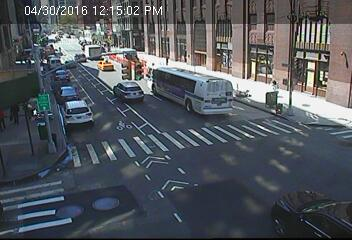neg: (14, 183, 47, 227), (213, 161, 242, 200), (50, 65, 75, 99), (277, 154, 302, 188), (299, 107, 324, 140), (155, 159, 179, 190), (112, 164, 135, 195), (99, 64, 121, 94), (70, 117, 91, 144), (67, 34, 87, 61), (323, 181, 343, 208), (250, 92, 270, 118), (210, 85, 229, 110), (76, 183, 95, 208), (308, 27, 326, 51), (230, 28, 248, 52), (112, 24, 129, 47), (270, 52, 286, 73), (175, 25, 191, 46), (126, 113, 141, 134), (165, 80, 180, 100)
pos: (4, 101, 25, 129)
